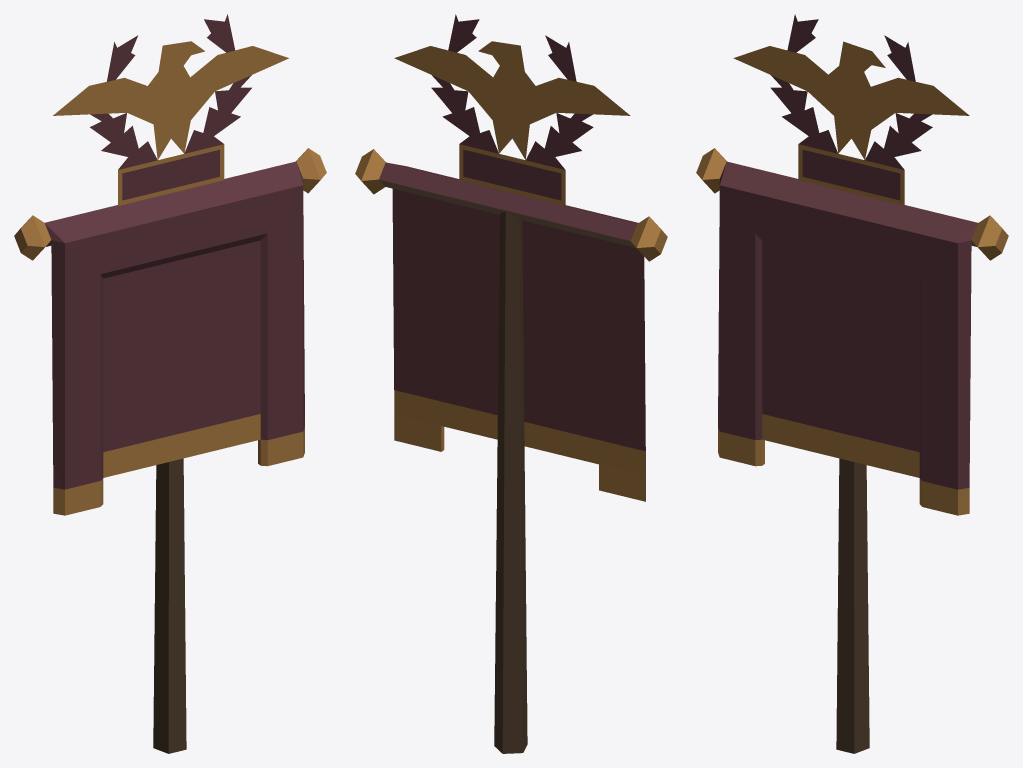
The model's file is SM_War_Banner_Empire.fbx.
3 renders of one model, left to right at view 1: azimuth 30°, elevation 25°; view 2: azimuth 150°, elevation 25°; view 3: azimuth 330°, elevation 25°, orthographic.
Visible parts, largest first — view 1: SM_War_Banner_Empire; view 2: SM_War_Banner_Empire; view 3: SM_War_Banner_Empire.
Part boxes in pixels (<box>): SM_War_Banner_Empire: <box>14,14,326,753</box>; SM_War_Banner_Empire: <box>355,14,667,753</box>; SM_War_Banner_Empire: <box>696,14,1008,753</box>.
Size of the model in its own units: 1.06 by 2.43 by 0.161.
